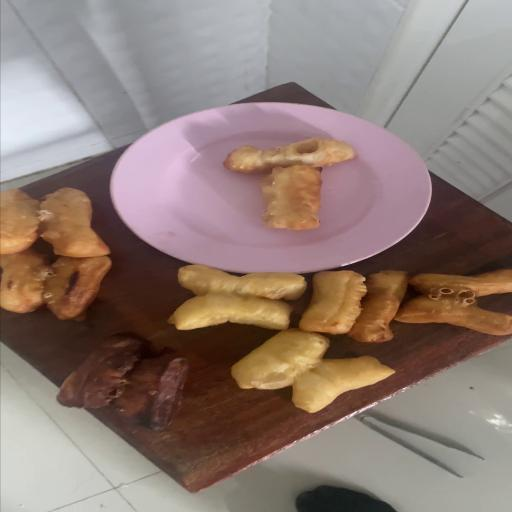street_burnt_defect: (56, 336, 187, 430), (2, 252, 109, 318)
street_golden_good: (170, 265, 304, 332), (0, 188, 113, 256)
